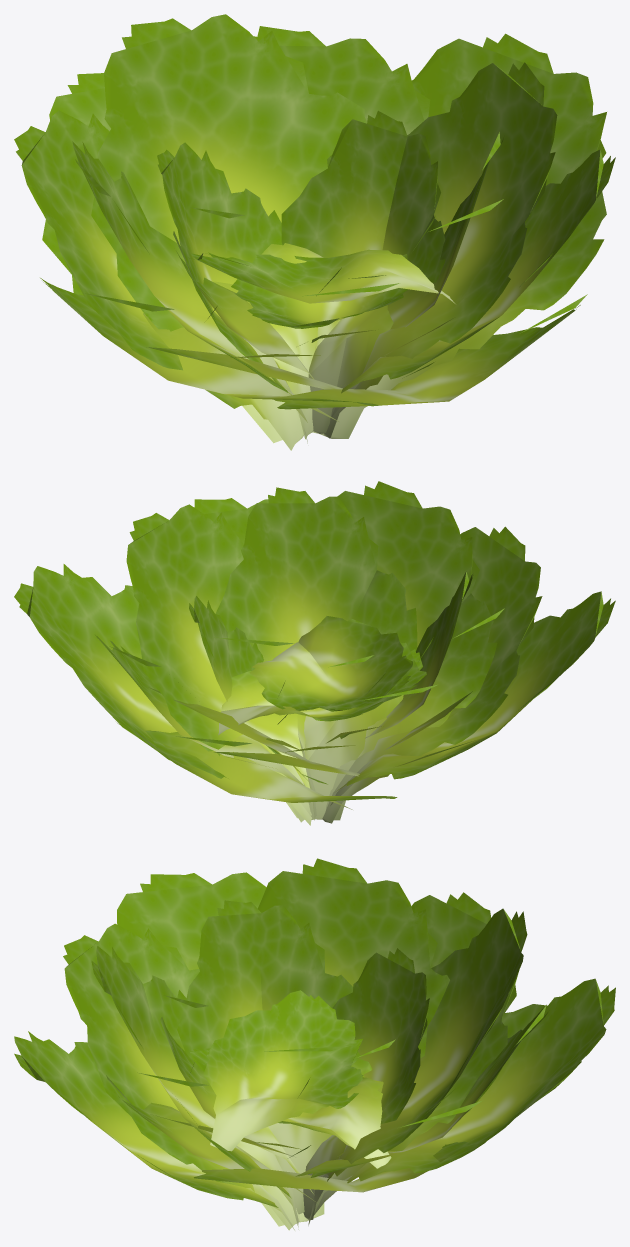
File: Cabbage_Visual.glb
3 views of the same model, one above another, from view 1: azimuth 30°, elevation 25°; view 2: azimuth 150°, elevation 25°; view 3: azimuth 270°, elevation 25° (orthographic). The views are drawn at different scales.
Visible parts, largest first — view 1: Lattuce; view 2: Lattuce; view 3: Lattuce.
Boxes of the visible parts, x1,y1,x2,y2 form: Lattuce: (14,14,615,450); Lattuce: (14,481,615,825); Lattuce: (14,858,615,1230).
Size of the model in its own units: 0.8076 by 0.4274 by 0.8051.
1 material, 1 textured.
